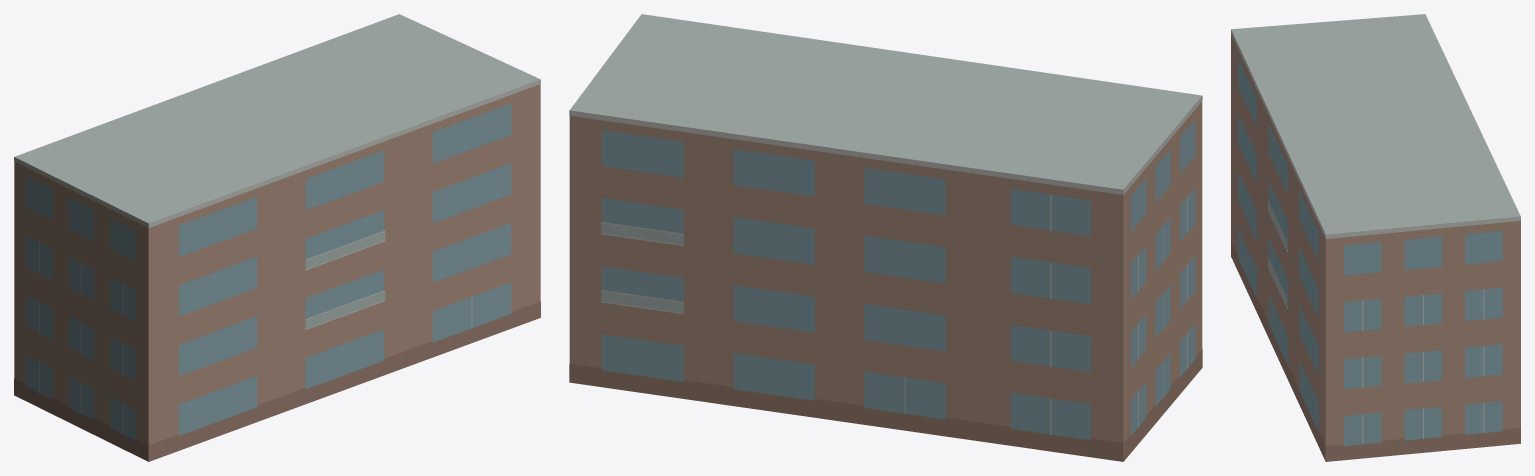
Rendered from survey-upis-32706522.glb.
3 views of the same model, side by side, from view 1: azimuth 30°, elevation 25°; view 2: azimuth 150°, elevation 25°; view 3: azimuth 270°, elevation 25° (orthographic). The views are drawn at different scales.
Visible parts, largest first — view 1: survey-upis-32706522.tmp; view 2: survey-upis-32706522.tmp; view 3: survey-upis-32706522.tmp.
Boxes of the visible parts, <box> form: survey-upis-32706522.tmp: <box>14,14,540,461</box>; survey-upis-32706522.tmp: <box>569,14,1202,461</box>; survey-upis-32706522.tmp: <box>1231,14,1520,461</box>.
Size of the model in its own units: 26.25 by 12.6 by 14.57.
